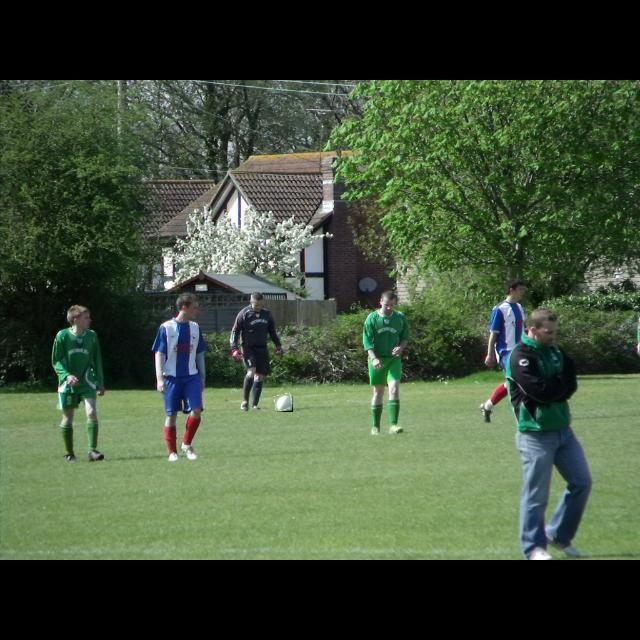Football: (275, 394, 293, 412)
